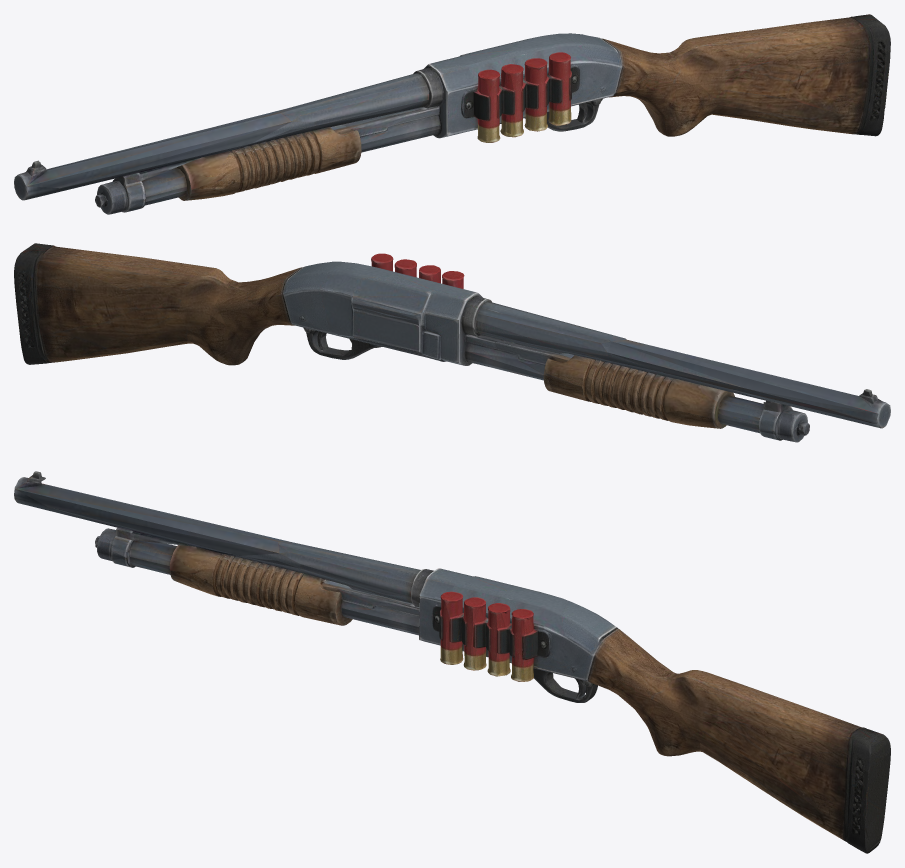
3 renders of one model, top to bottom at view 1: azimuth 30°, elevation 25°; view 2: azimuth 150°, elevation 25°; view 3: azimuth 330°, elevation 25°, orthographic.
Visible parts, largest first — view 1: Mesh_0; view 2: Mesh_0; view 3: Mesh_0.
Part boxes in pixels (box(x1,y1,x2,y2)): Mesh_0: box(14, 14, 890, 214); Mesh_0: box(14, 243, 890, 442); Mesh_0: box(14, 471, 890, 853).
Size of the model in its own units: 1.9 by 0.3714 by 0.1556.
1 material, 1 textured.
